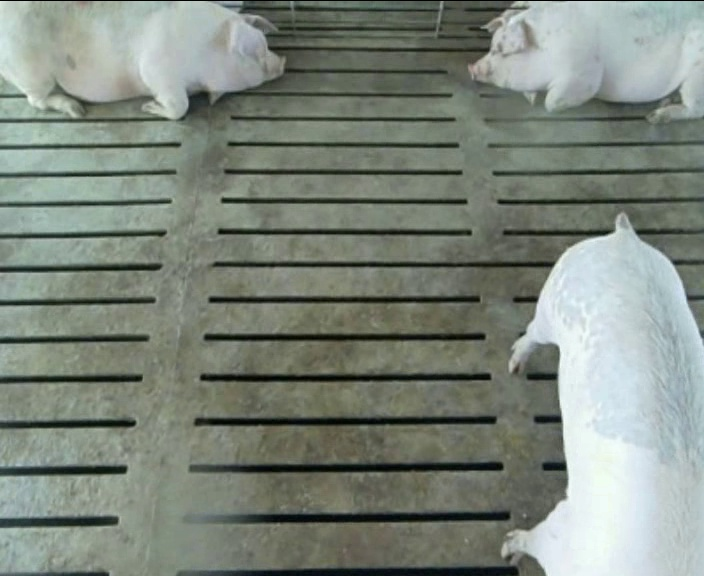pig: (502, 214, 703, 574), (469, 2, 703, 121)
